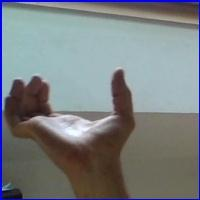B: (4, 62, 154, 176)
